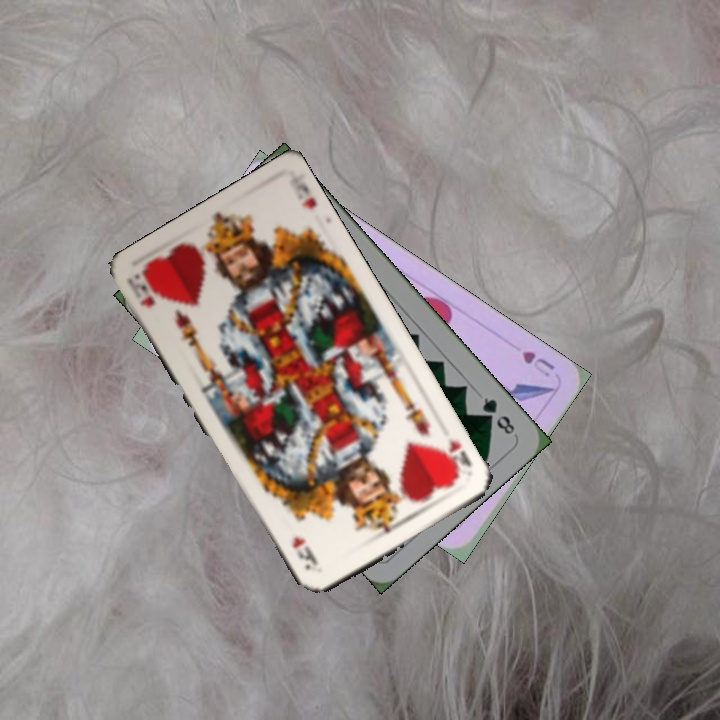G8: (477, 393, 518, 438)
HK: (438, 433, 475, 480), (123, 268, 160, 310)
HU: (517, 347, 557, 380)
